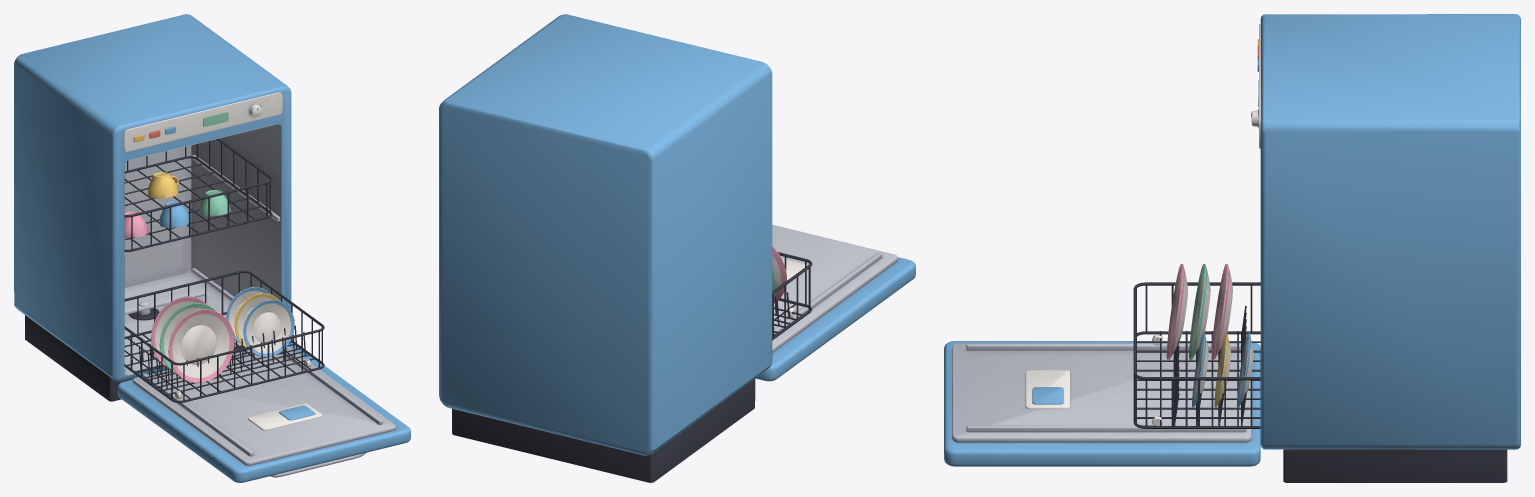
Rendered from dishwasher-light.glb.
The picture shows the model from 3 angles, left to right: view 1: azimuth 30°, elevation 25°; view 2: azimuth 150°, elevation 25°; view 3: azimuth 270°, elevation 25°; orthographic projection. The views are drawn at different scales.
Visible parts, largest first — view 1: dishwasher_body, dishwasher_door, dishwasher_rack; view 2: dishwasher_body, dishwasher_door, dishwasher_rack; view 3: dishwasher_body, dishwasher_door, dishwasher_rack.
Boxes of the visible parts, bbox=[...] form: dishwasher_body: bbox=[14, 14, 291, 401]; dishwasher_door: bbox=[117, 343, 410, 482]; dishwasher_rack: bbox=[124, 270, 324, 402]; dishwasher_body: bbox=[439, 14, 772, 482]; dishwasher_door: bbox=[755, 225, 915, 381]; dishwasher_rack: bbox=[772, 246, 812, 340]; dishwasher_body: bbox=[1251, 14, 1520, 482]; dishwasher_door: bbox=[944, 341, 1260, 466]; dishwasher_rack: bbox=[1133, 263, 1260, 428].
Bounding box in the file's own units: 0.5969 × 0.8946 × 1.29.
3 materials, 3 textured.
